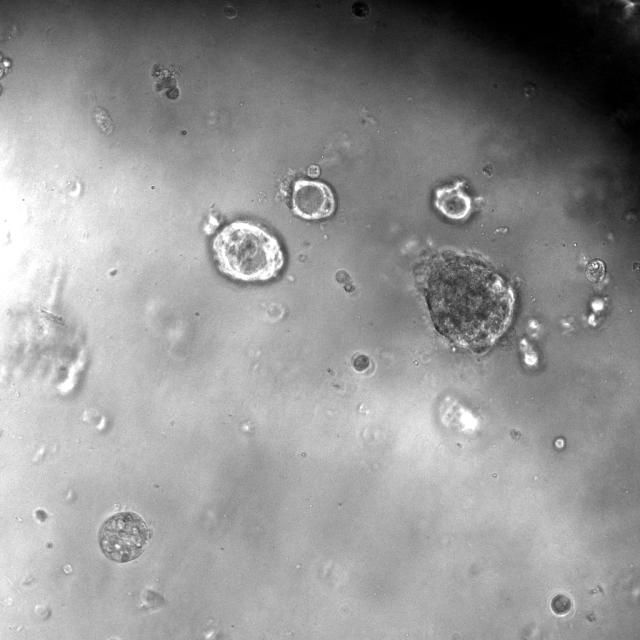organoid: (414, 249, 521, 354), (204, 214, 286, 282), (276, 164, 337, 221), (99, 512, 149, 562), (432, 180, 479, 223), (150, 63, 180, 100), (0, 51, 12, 95), (550, 594, 572, 615), (586, 259, 606, 282), (336, 270, 354, 292), (352, 354, 369, 371)
